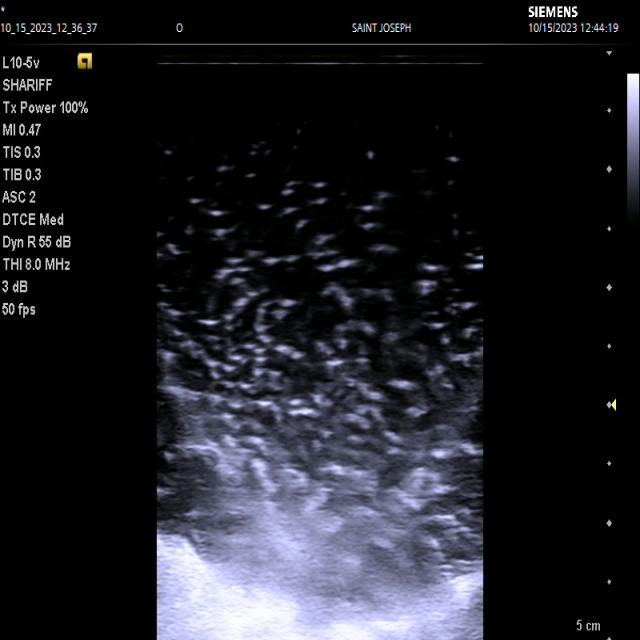tissue: (157, 534, 483, 640)
